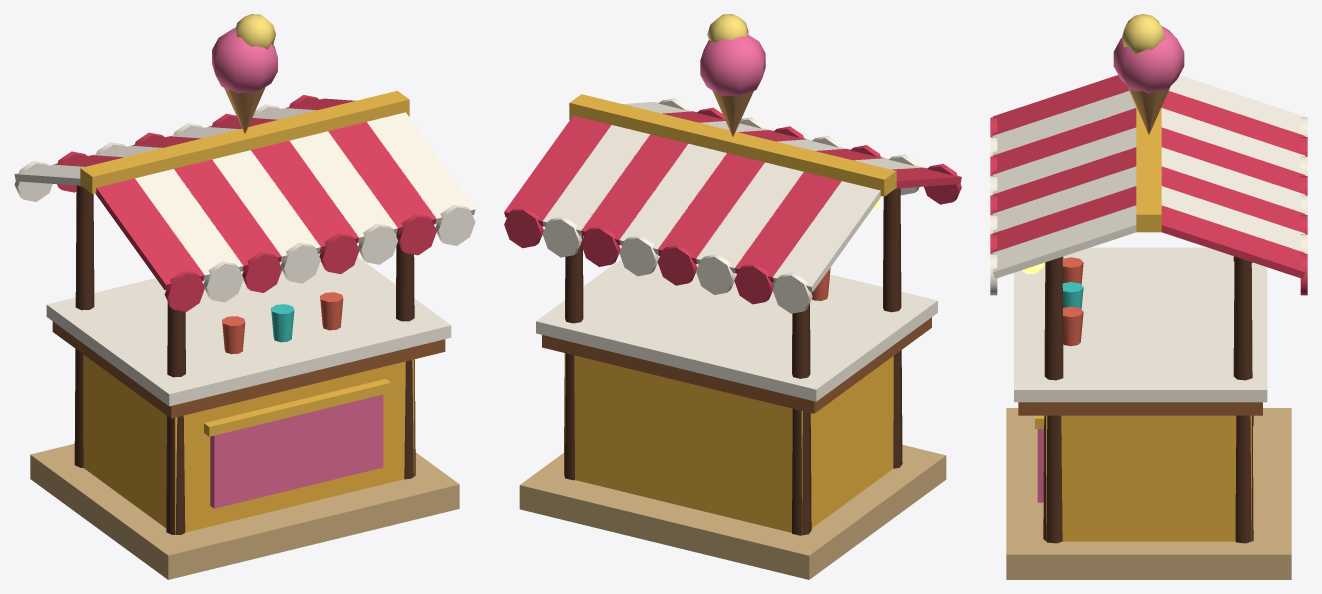
File: kiosk.glb
3 renders of one model, left to right at view 1: azimuth 30°, elevation 25°; view 2: azimuth 150°, elevation 25°; view 3: azimuth 270°, elevation 25°, orthographic. The views are drawn at different scales.
Visible parts, largest first — view 1: Mesh_warmWhite, Mesh_crimson, Mesh_mango, Mesh_sandStone, Mesh_flamingo, Mesh_gold, Mesh_darkWood, Mesh_wood, Mesh_coral, Mesh_banana, Mesh_lightWood, Mesh_turquoise; view 2: Mesh_warmWhite, Mesh_mango, Mesh_crimson, Mesh_sandStone, Mesh_darkWood, Mesh_gold, Mesh_wood, Mesh_flamingo, Mesh_banana, Mesh_lightWood; view 3: Mesh_warmWhite, Mesh_crimson, Mesh_mango, Mesh_sandStone, Mesh_darkWood, Mesh_flamingo, Mesh_wood, Mesh_gold, Mesh_coral, Mesh_banana, Mesh_lightWood, Mesh_turquoise.
Part boxes in pixels (box(x1,y1,x2,y2)): Mesh_warmWhite: box(14, 104, 475, 406); Mesh_crimson: box(54, 95, 436, 311); Mesh_mango: box(83, 354, 414, 534); Mesh_sandStone: box(30, 443, 459, 579); Mesh_flamingo: box(210, 27, 383, 508); Mesh_gold: box(80, 90, 409, 436); Mesh_darkWood: box(74, 185, 415, 534); Mesh_wood: box(52, 321, 445, 418); Mesh_coral: box(222, 292, 343, 354); Mesh_banana: box(235, 14, 275, 49); Mesh_lightWood: box(224, 87, 265, 133); Mesh_turquoise: box(271, 304, 294, 342); Mesh_warmWhite: box(536, 98, 937, 401); Mesh_mango: box(564, 353, 893, 534); Mesh_crimson: box(504, 107, 961, 304); Mesh_sandStone: box(519, 444, 946, 579); Mesh_darkWood: box(564, 188, 902, 535); Mesh_gold: box(569, 94, 896, 196); Mesh_wood: box(542, 317, 931, 413); Mesh_flamingo: box(700, 34, 765, 96); Mesh_banana: box(707, 14, 748, 42); Mesh_lightWood: box(712, 90, 753, 136); Mesh_warmWhite: box(990, 75, 1307, 402); Mesh_crimson: box(990, 75, 1307, 295); Mesh_mango: box(1046, 415, 1251, 541); Mesh_sandStone: box(1006, 408, 1291, 579); Mesh_darkWood: box(1043, 256, 1253, 543); Mesh_flamingo: box(1037, 25, 1184, 502); Mesh_wood: box(1018, 402, 1262, 415); Mesh_gold: box(1035, 107, 1161, 428); Mesh_coral: box(1062, 257, 1083, 346); Mesh_banana: box(1121, 14, 1164, 53); Mesh_lightWood: box(1127, 86, 1170, 134); Mesh_turquoise: box(1062, 282, 1083, 309).
Size of the model in its own units: 2.72 by 3.92 by 2.28.
